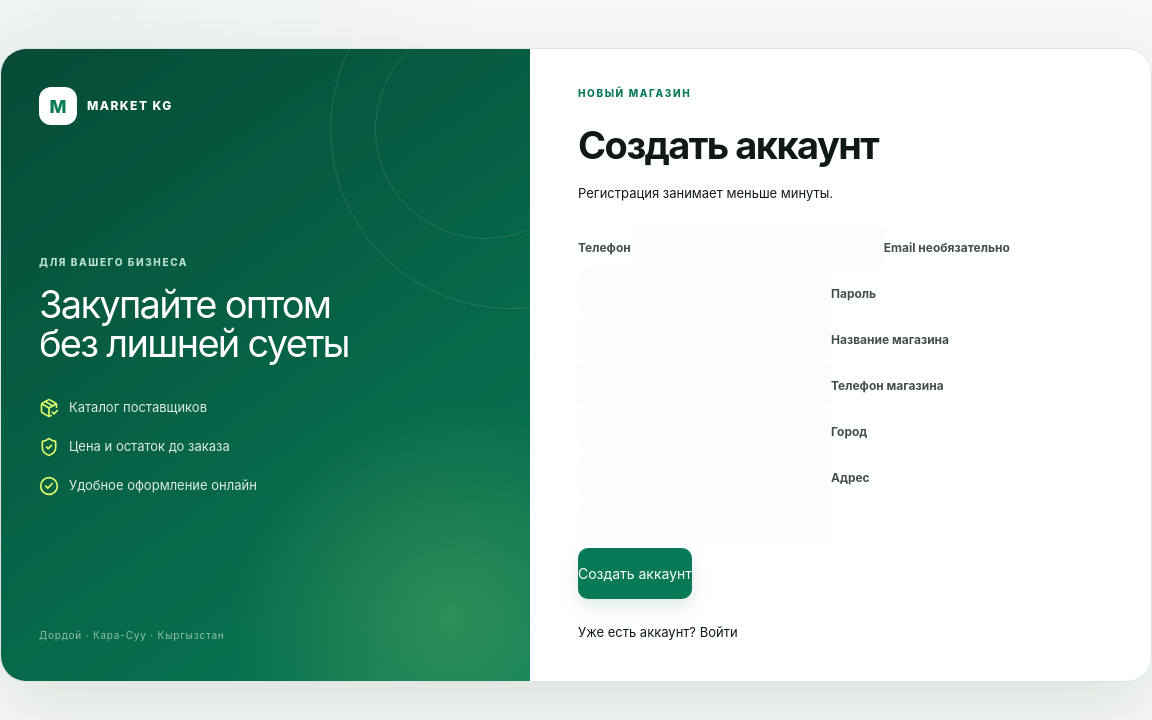
Register page › shows validation errors for required shop fields
The width and height of the screenshot is (1152, 720).
Click the button "Создать аккаунт".
click(635, 574)  # box left=578, top=548, right=692, bottom=599
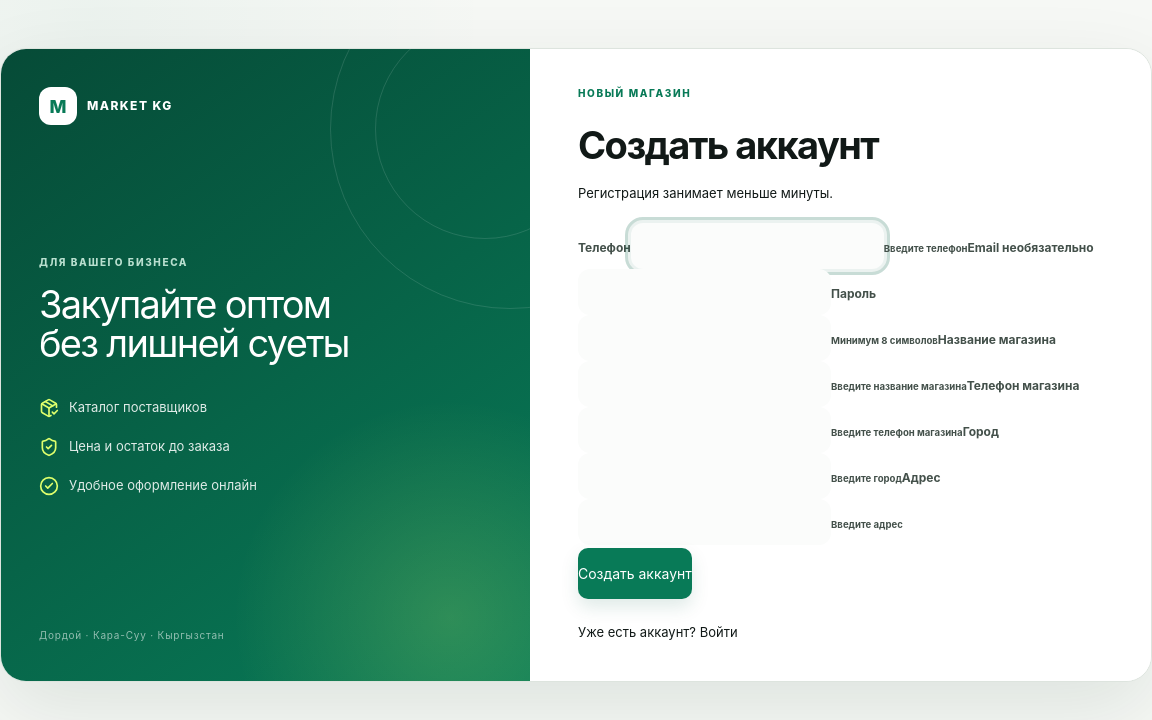
Expected: the text "Введите телефон" is shown 2 times, left=884, top=242, right=968, bottom=254; left=831, top=426, right=963, bottom=438
Expected: the text "Введите название магазина" is shown, left=831, top=380, right=967, bottom=392
